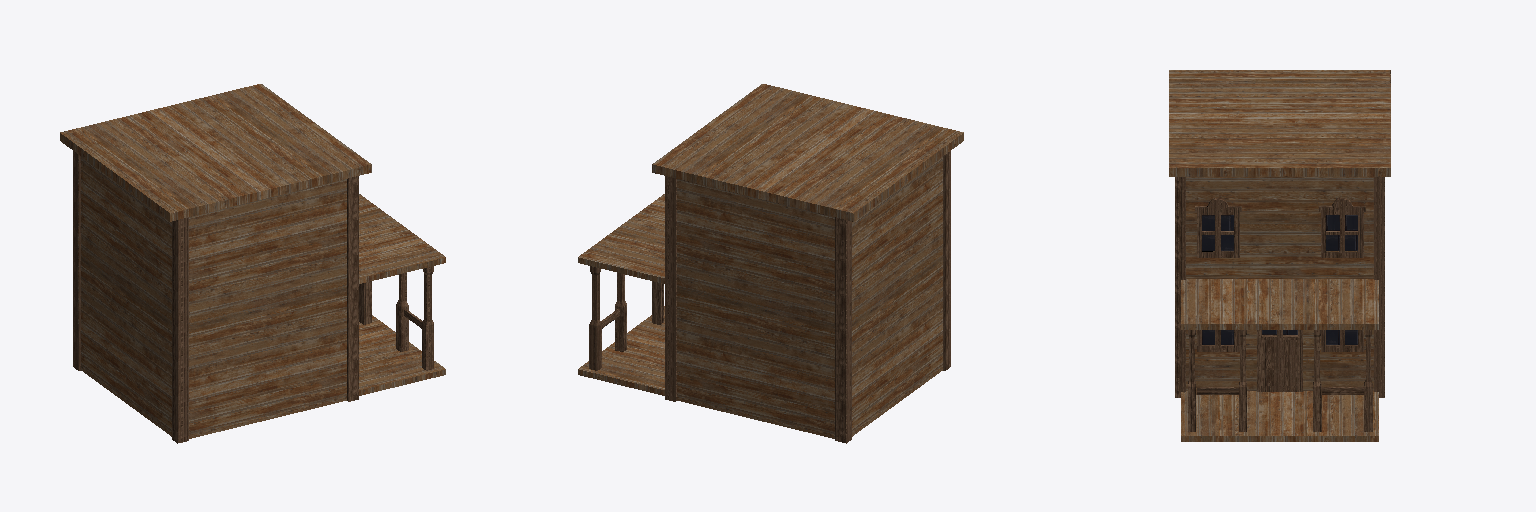
The picture shows the model from 3 angles: view 1: azimuth 30°, elevation 25°; view 2: azimuth 150°, elevation 25°; view 3: azimuth 270°, elevation 25°; orthographic projection.
Visible parts, largest first — view 1: Cube.002_Cube.001; view 2: Cube.002_Cube.001; view 3: Cube.002_Cube.001.
Boxes of the visible parts, x1,y1,x2,y2 form: Cube.002_Cube.001: [60, 84, 445, 443]; Cube.002_Cube.001: [578, 84, 963, 443]; Cube.002_Cube.001: [1169, 70, 1390, 441].
Size of the model in its own units: 3.2 by 2.55 by 2.18.
1 materials, 1 textured.